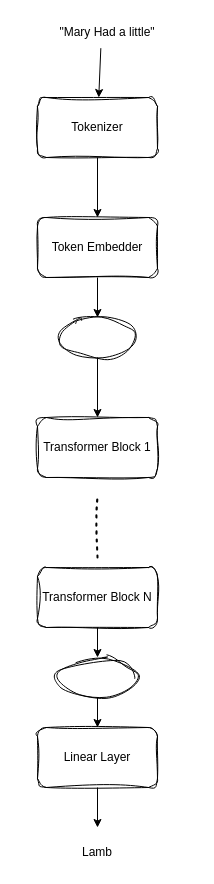
The diagram is 214 pixels wide and 884 high, and some of its shapes have lost their labels. The shapes that lost their labels are listed below. From the top down, each one's centre as x and y in pixels, then its label:
the point at 97,337: Dropout
the point at 97,677: RMS Norm
